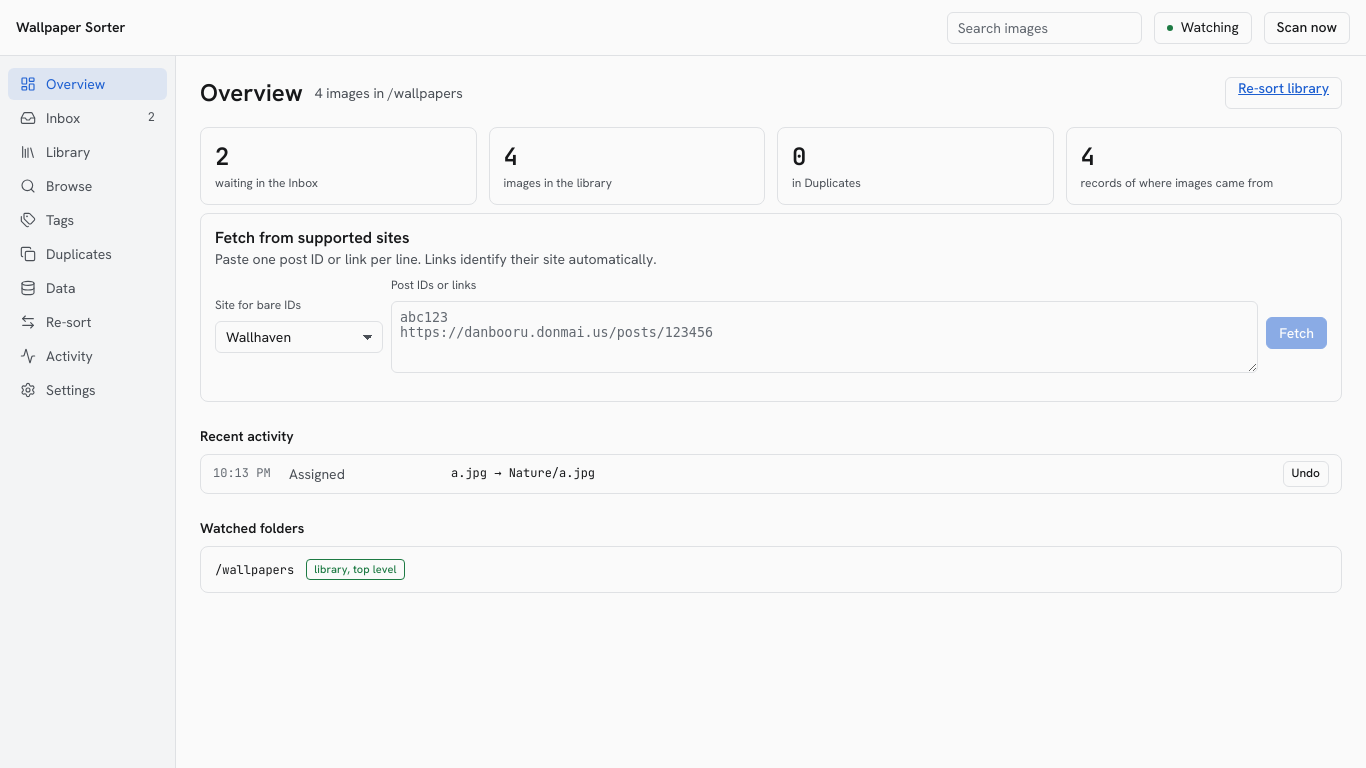
it: loads overview data and invalidates queries after undo
expect the heading "Overview" is shown: met, box [200,76,303,111]
expect the text "4 images in /wallpapers" is shown: met, box [315,83,463,104]
Click the button "Undo" at (1306, 474), box [1283,461,1329,487]
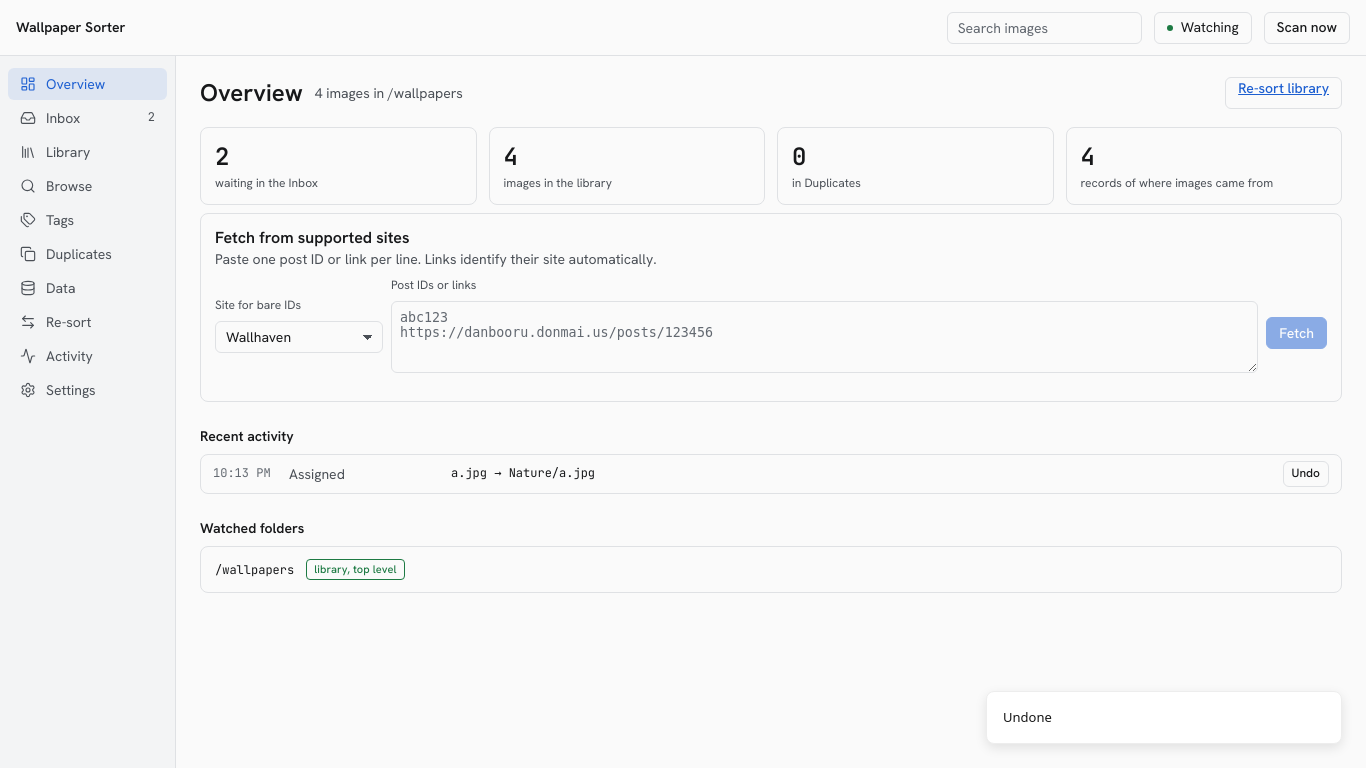
expect the text "Undone" is shown: met, box [1003,708,1052,727]
